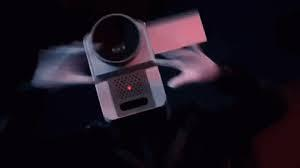no more kid: (78, 8, 216, 128)
